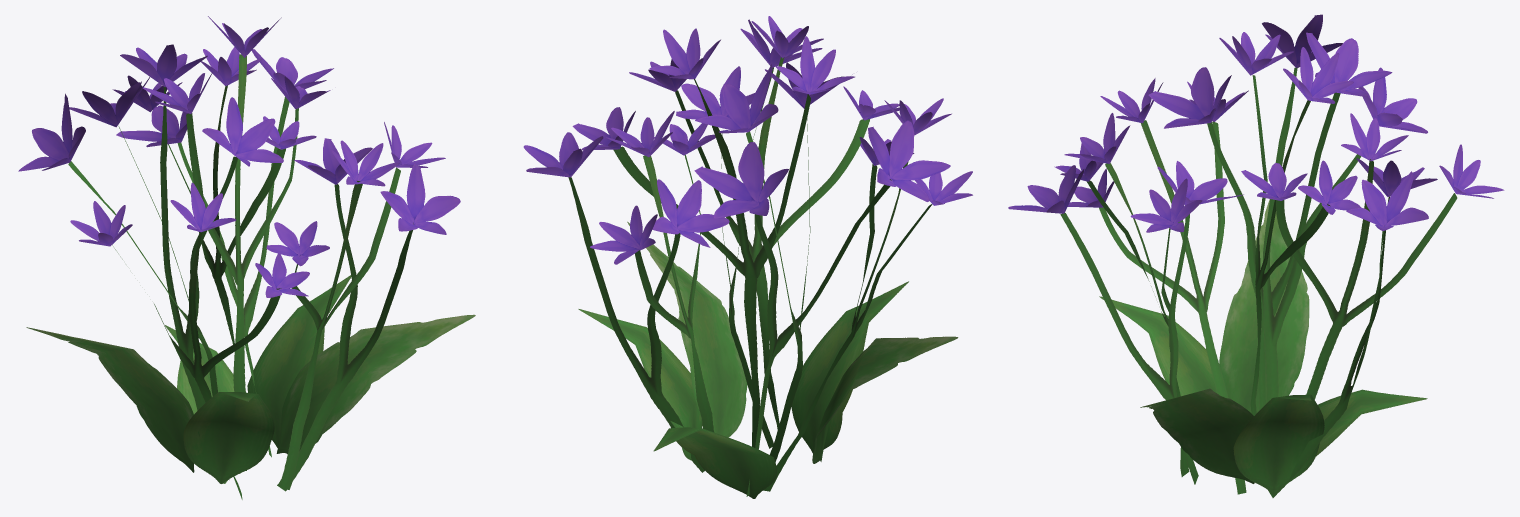
Rendered from MSH_fwOF_Flowers_04_C.fbx.
The picture shows the model from 3 angles, left to right: view 1: azimuth 30°, elevation 25°; view 2: azimuth 150°, elevation 25°; view 3: azimuth 270°, elevation 25°; orthographic projection. The views are drawn at different scales.
Visible parts, largest first — view 1: MSH_fwOF_Flowers_04_C; view 2: MSH_fwOF_Flowers_04_C; view 3: MSH_fwOF_Flowers_04_C.
Boxes of the visible parts, bbox=[...] form: MSH_fwOF_Flowers_04_C: bbox=[18, 16, 475, 499]; MSH_fwOF_Flowers_04_C: bbox=[523, 16, 972, 498]; MSH_fwOF_Flowers_04_C: bbox=[1008, 14, 1504, 497].
Size of the model in its own units: 0.3786 by 0.4014 by 0.4001.
